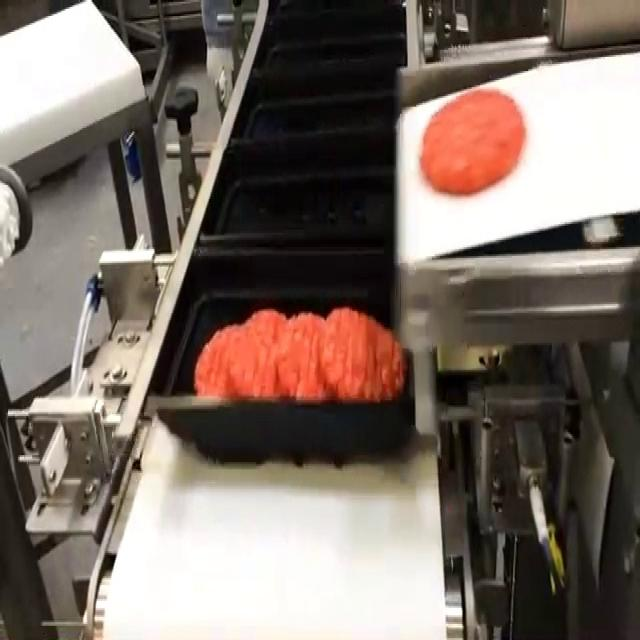4-hamburguer: (194, 308, 403, 400)
